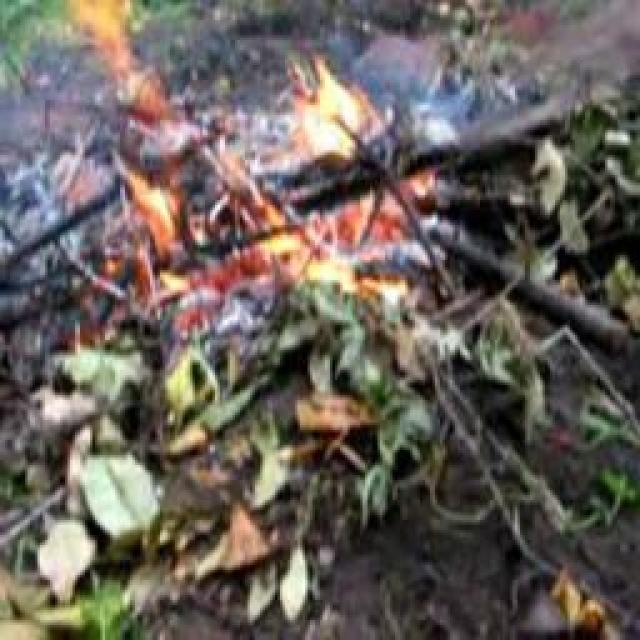Fire: (91, 51, 429, 309)
